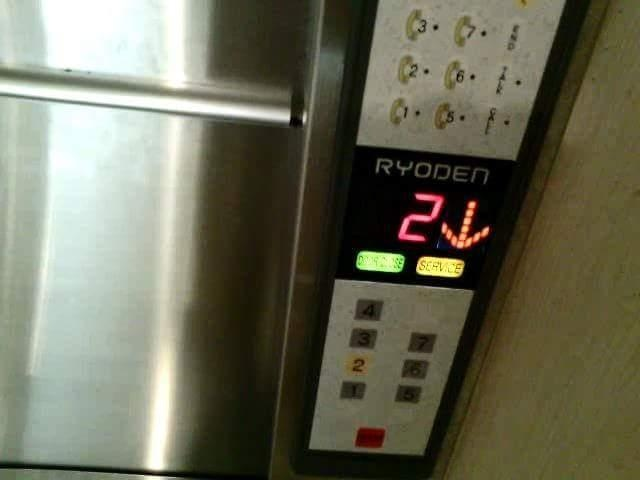1: (337, 379, 367, 400)
2: (345, 353, 373, 376)
3: (348, 328, 379, 350)
4: (353, 296, 384, 322)
5: (394, 385, 423, 405)
6: (399, 356, 429, 381)
7: (405, 330, 437, 354)
blur: (352, 425, 386, 449)
led: (332, 140, 518, 293)
